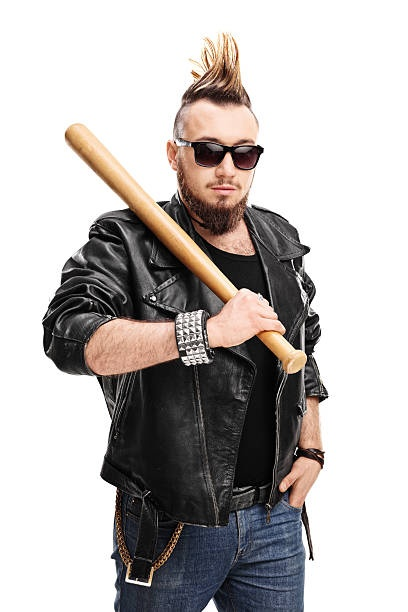bita: (62, 121, 312, 377)
